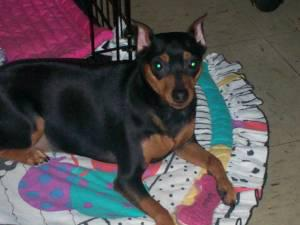dog-miniature_pinscher: (129, 12, 206, 108)
